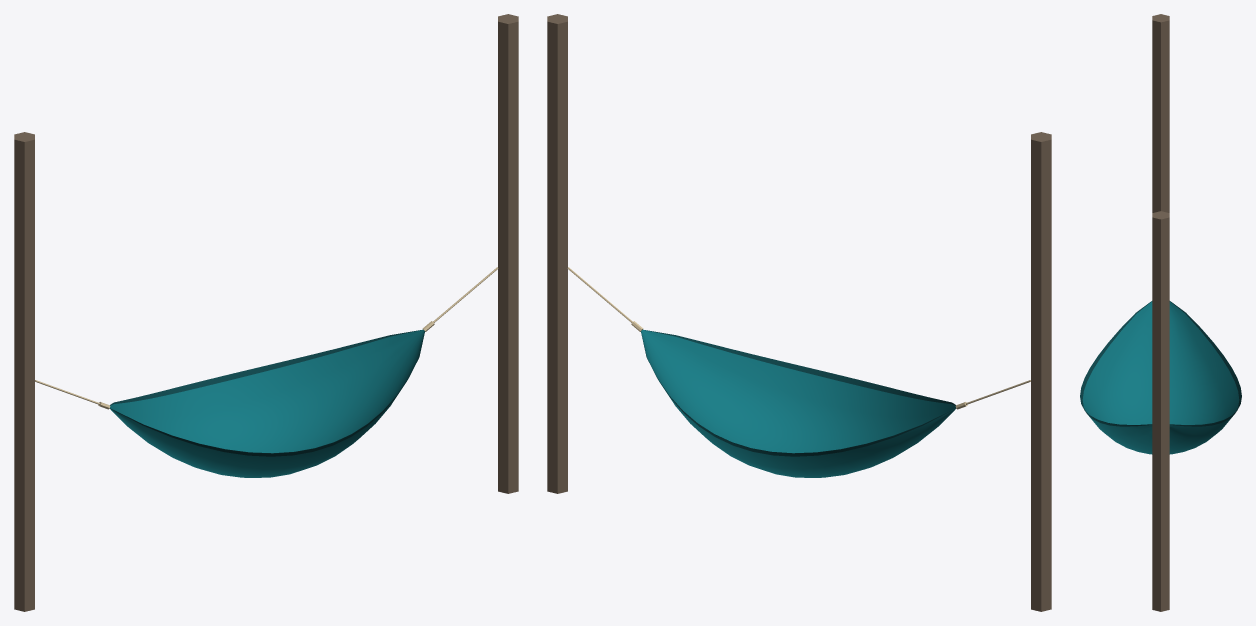
File: vong_du_cafe.mid.glb
3 renders of one model, left to right at view 1: azimuth 30°, elevation 25°; view 2: azimuth 150°, elevation 25°; view 3: azimuth 270°, elevation 25°, orthographic. The views are drawn at different scales.
Visible parts, largest first — view 1: bed_vong_du_cafe, vong_du_cafe; view 2: bed_vong_du_cafe, vong_du_cafe; view 3: bed_vong_du_cafe, vong_du_cafe.
Part boxes in pixels (x1,y1,x2,y2): bed_vong_du_cafe: [35, 267, 498, 477]; vong_du_cafe: [14, 14, 518, 611]; bed_vong_du_cafe: [567, 267, 1030, 477]; vong_du_cafe: [547, 14, 1051, 611]; bed_vong_du_cafe: [1080, 301, 1241, 454]; vong_du_cafe: [1152, 14, 1169, 611].
Bounding box in the file's own units: 2.92 × 2.6 × 0.9725.
